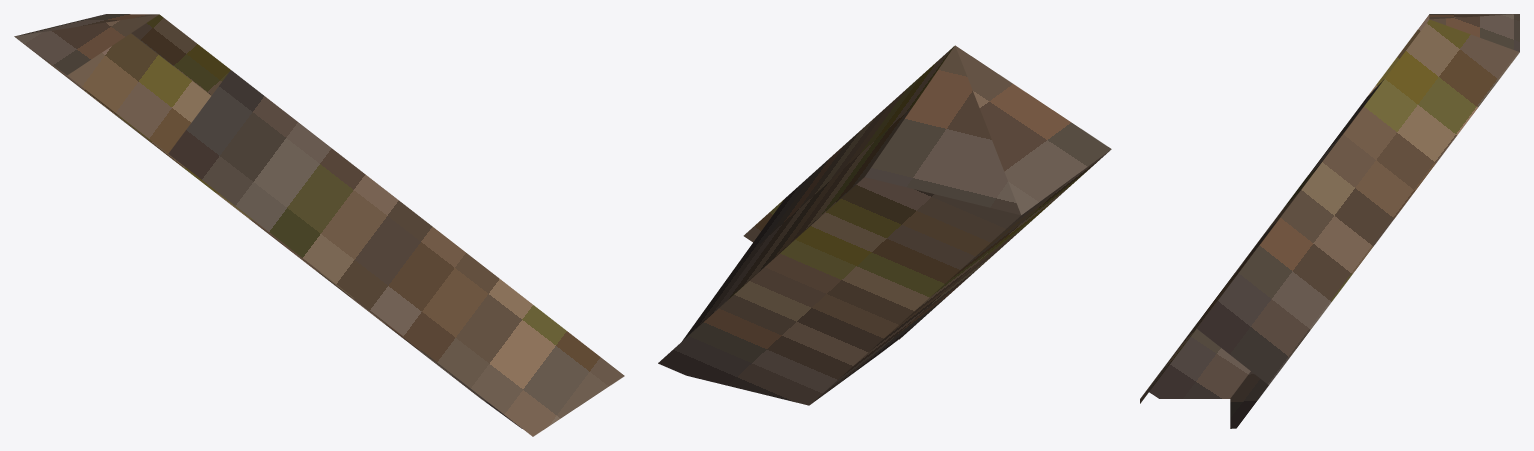
File: chestnut_thin_branch_45_diagonal.obj
3 views of the same model, side by side, from view 1: azimuth 30°, elevation 25°; view 2: azimuth 150°, elevation 25°; view 3: azimuth 270°, elevation 25° (orthographic). The views are drawn at different scales.
Parts seen in each view (by area): view 1: cube_selection; view 2: cube_selection; view 3: cube_selection.
Boxes of the visible parts, x1,y1,x2,y2 form: cube_selection: (14, 14, 624, 436); cube_selection: (658, 45, 1111, 405); cube_selection: (1140, 14, 1519, 428).
Bounding box in the file's own units: 1.31 × 1.12 × 1.31.
